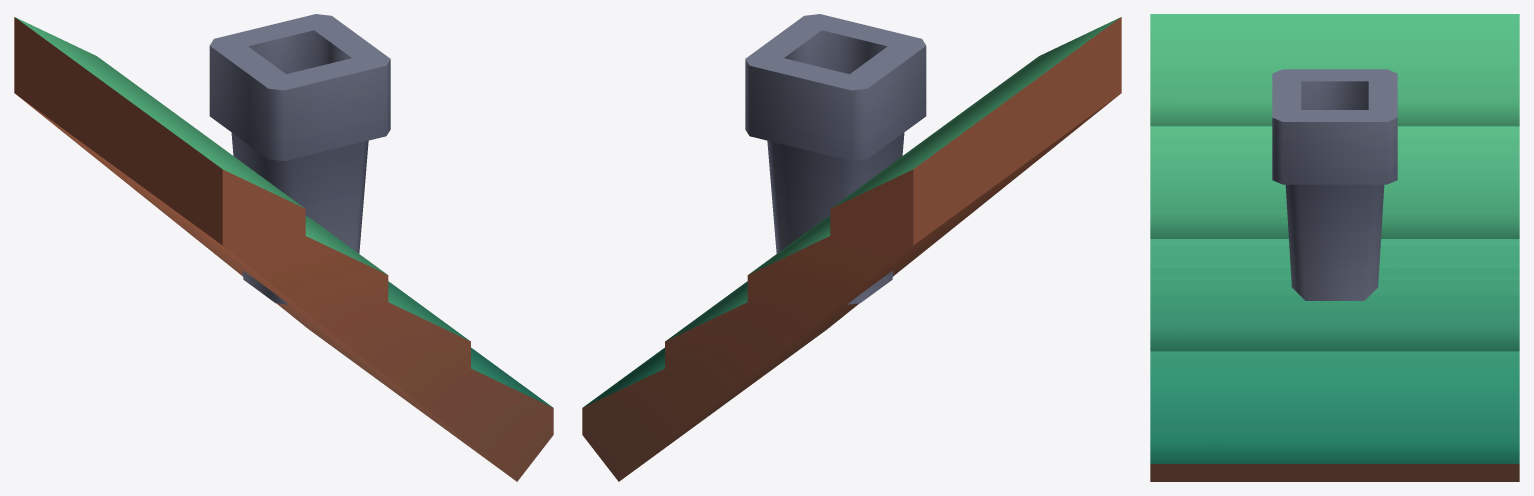
The model's file is cabin-roof-chimney.glb.
3 renders of one model, left to right at view 1: azimuth 30°, elevation 25°; view 2: azimuth 150°, elevation 25°; view 3: azimuth 270°, elevation 25°, orthographic. The views are drawn at different scales.
Parts seen in each view (by area): view 1: cabin-roof-chimney; view 2: cabin-roof-chimney; view 3: cabin-roof-chimney.
Part boxes in pixels (x1,y1,x2,y2): cabin-roof-chimney: [14, 14, 553, 481]; cabin-roof-chimney: [582, 14, 1121, 481]; cabin-roof-chimney: [1150, 14, 1519, 481].
Bounding box in the file's own units: 1.28 × 1.42 × 1.4.
1 material, 1 textured.
